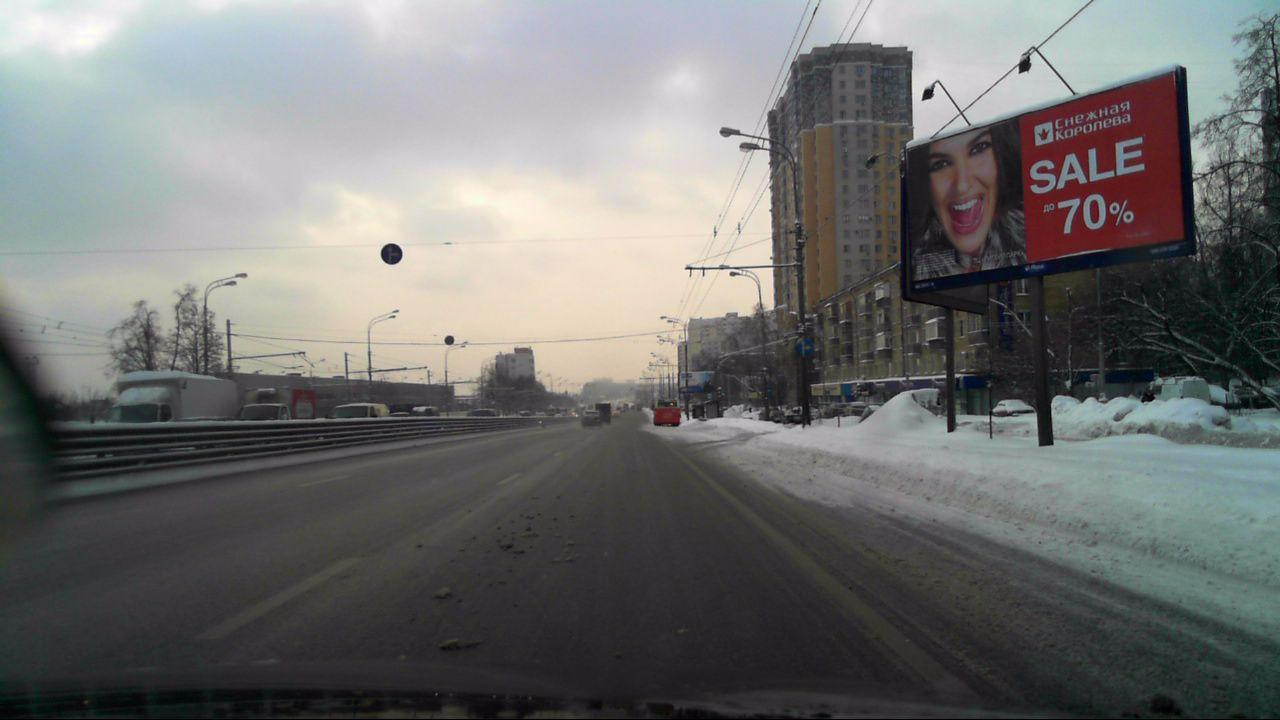road_sign: (379, 242, 405, 265)
